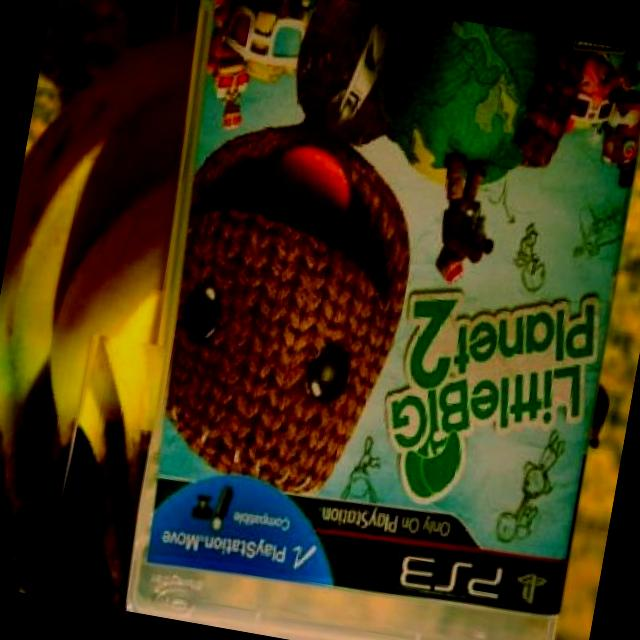Banana: (0, 15, 221, 591)
